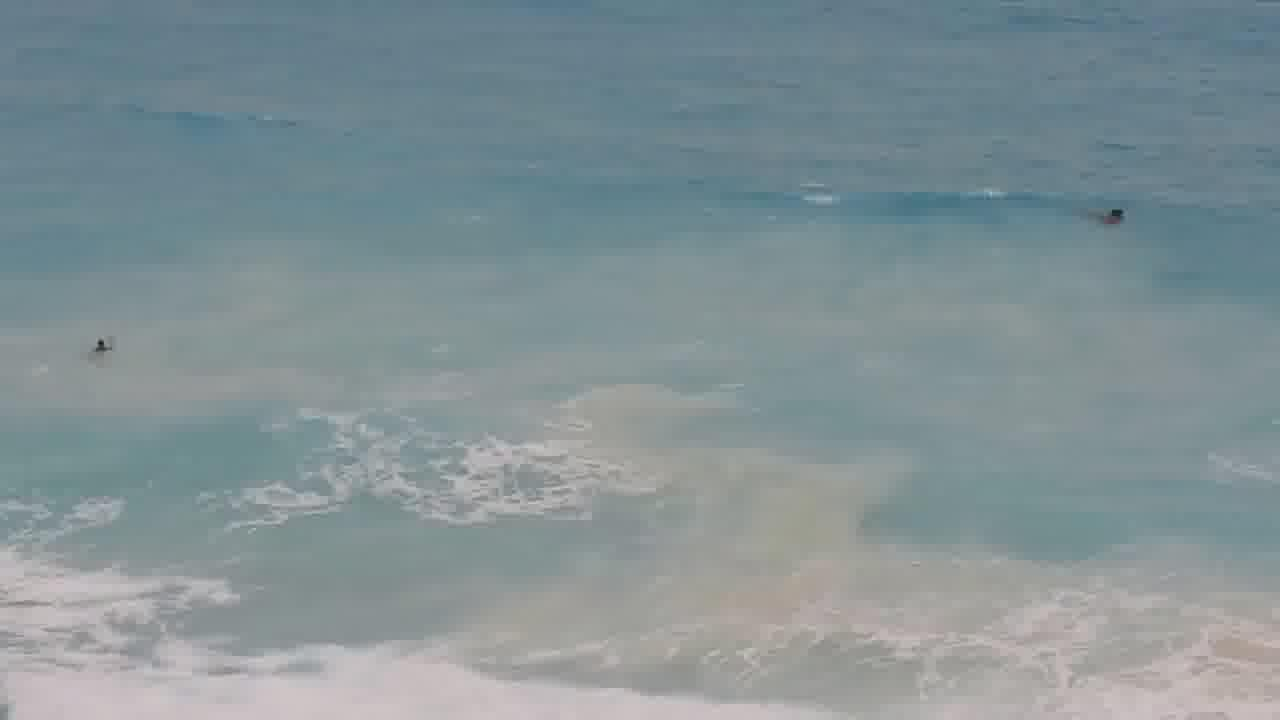swimmer: (69, 332, 125, 358), (1090, 205, 1138, 227)
